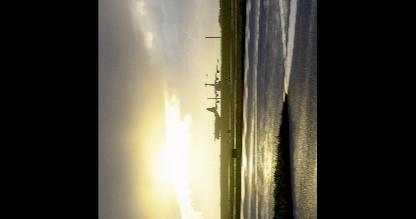Be200: (206, 102, 219, 143)
C2: (204, 58, 221, 113)
